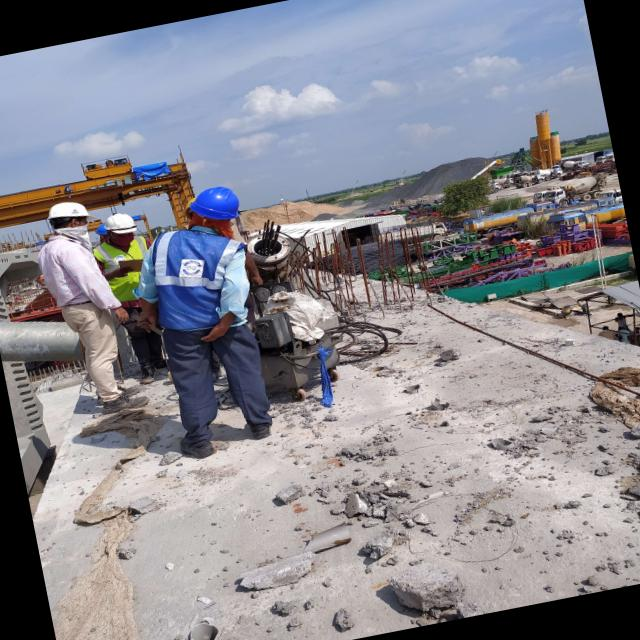cement: (33, 303, 640, 640), (446, 302, 640, 375)
white-sand: (422, 515, 427, 518)
